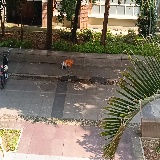fire: (64, 59, 74, 66)
